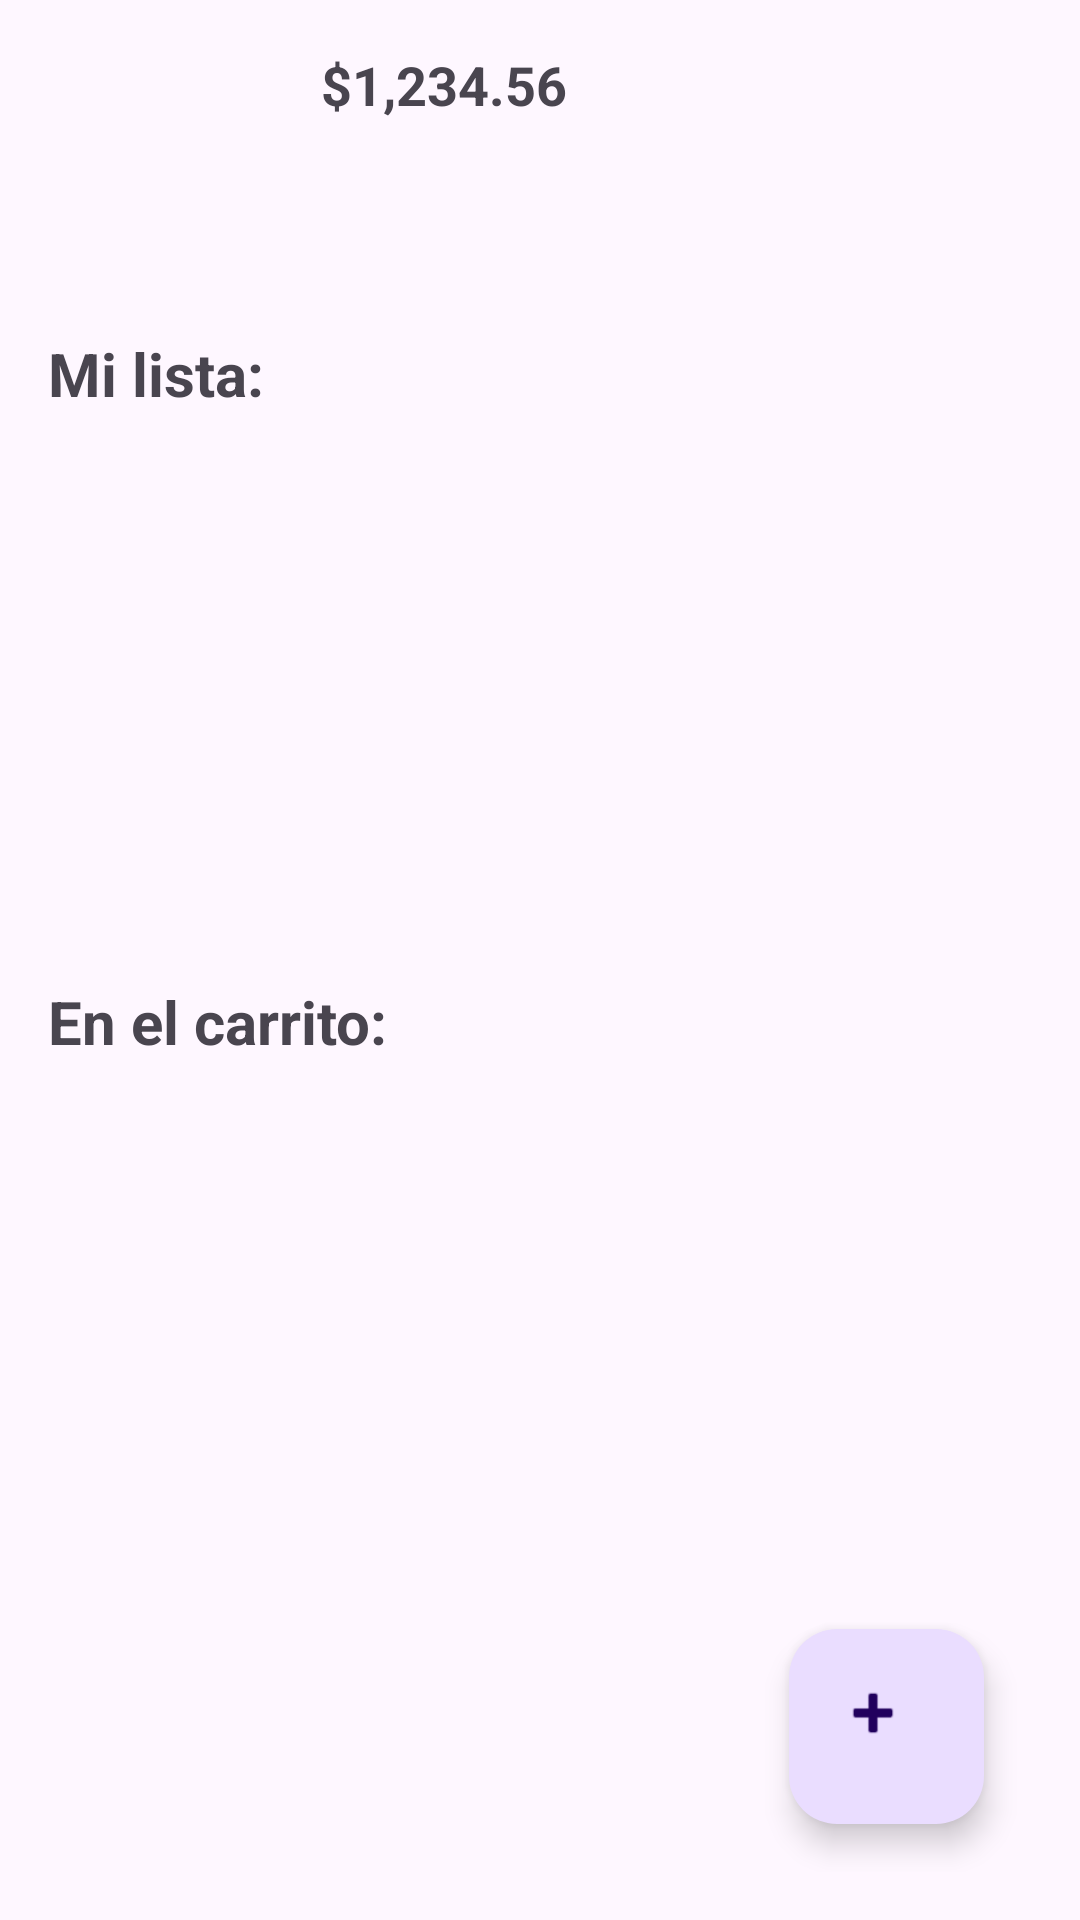

Locate icon controls on the screen. Image size 1080w x 1920h, boxes as [x1, y1, x2, y2].
add: [789, 1629, 984, 1824]
